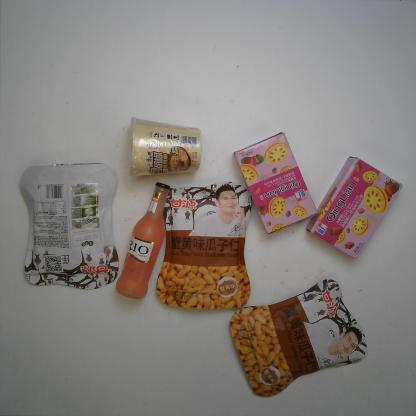Alcohol: (112, 180, 172, 301)
Dessert: (304, 152, 405, 261), (230, 130, 320, 236)
Dried Fruit: (227, 276, 370, 400), (16, 159, 124, 292), (155, 181, 255, 311)
Instant Noodles: (122, 115, 206, 179)
